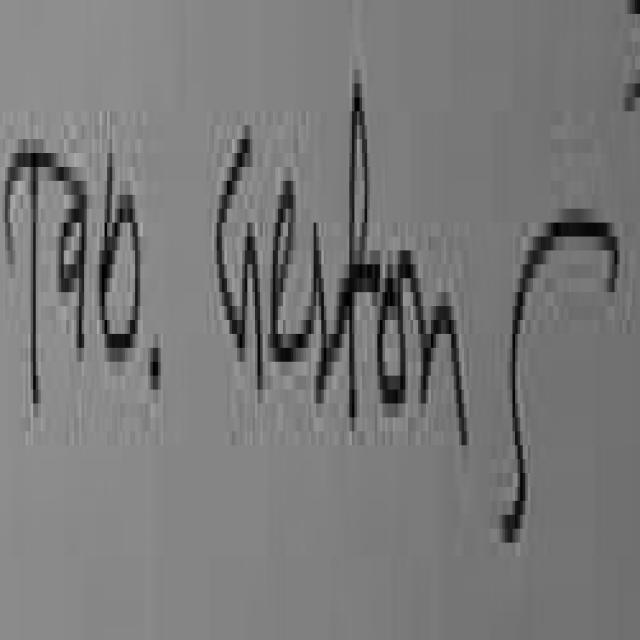5: (505, 209, 620, 543)
G: (217, 125, 263, 383)
T: (5, 153, 70, 403)
a: (59, 181, 87, 341)
b: (98, 112, 140, 372)
e: (268, 181, 305, 378)
n: (397, 248, 469, 438)
o: (380, 273, 407, 421)
s: (301, 214, 329, 403)
t: (329, 83, 382, 410)
